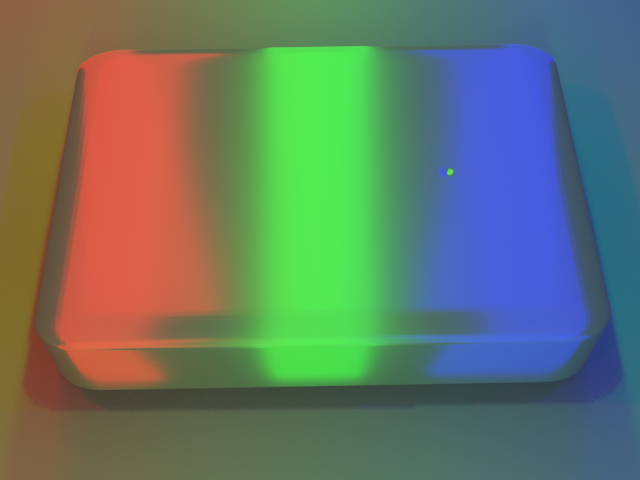dent: (441, 150, 478, 182)
